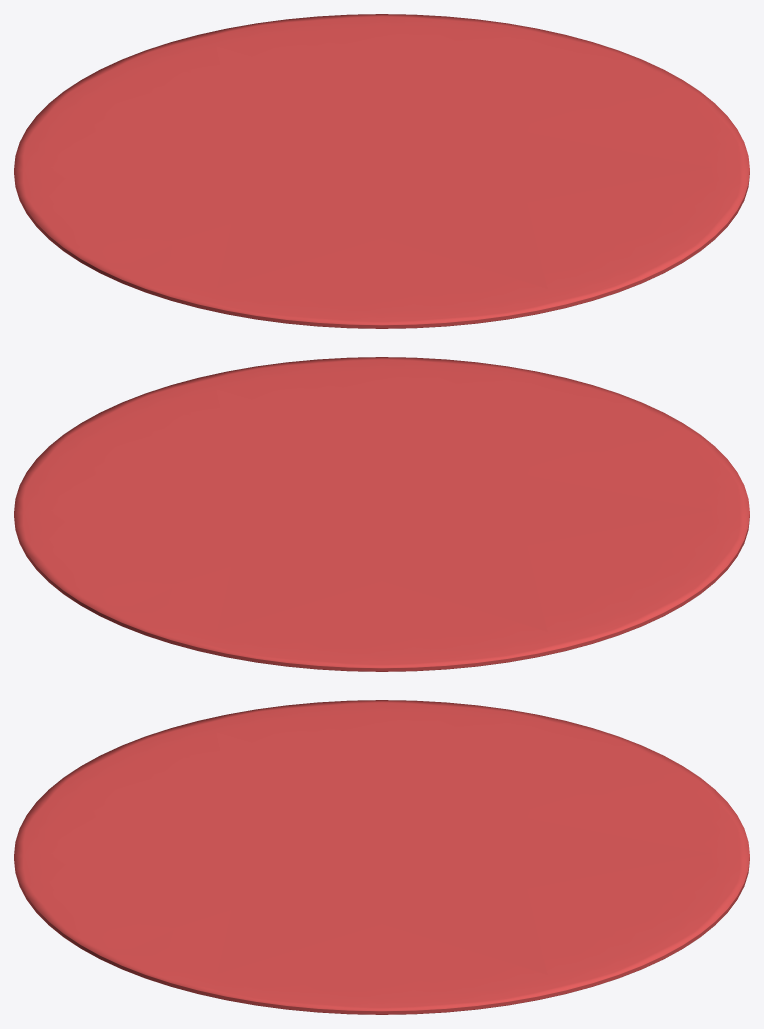
3 renders of one model, top to bottom at view 1: azimuth 30°, elevation 25°; view 2: azimuth 150°, elevation 25°; view 3: azimuth 270°, elevation 25°, orthographic.
Visible parts, largest first — view 1: Cylinder002, Star001; view 2: Cylinder002, Star001; view 3: Cylinder002, Star001.
Boxes of the visible parts, <box> form: Cylinder002: <box>14,14,749,328</box>; Star001: <box>51,46,712,288</box>; Cylinder002: <box>14,357,749,671</box>; Star001: <box>51,389,712,631</box>; Cylinder002: <box>14,700,749,1014</box>; Star001: <box>51,732,712,974</box>.
Size of the model in its own units: 8.58 by 0.0853 by 8.58.
